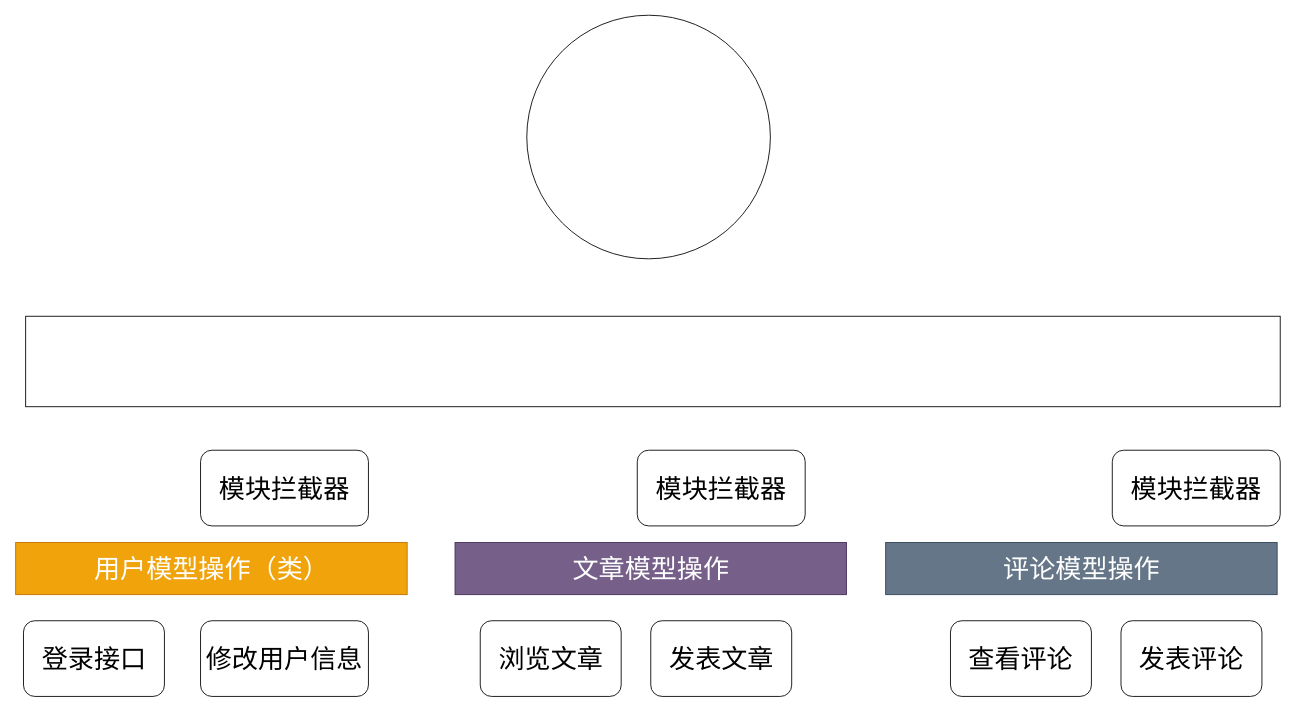
The diagram is 1295 pixels wide and 712 high, and some of its shapes have lost their labels. The box of each missing label's shape, as (x1, y1, x2, y2) in pixels:
【全局拦截器】 全局拦截器的工作机制是只要进来的请求全部拦截，就会导致性能下降: (25, 315, 1280, 407)
用户: (526, 14, 770, 259)
